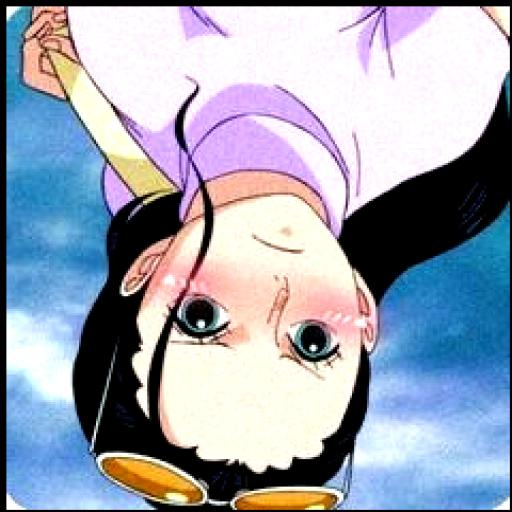NicoRobin: (47, 4, 508, 510)
